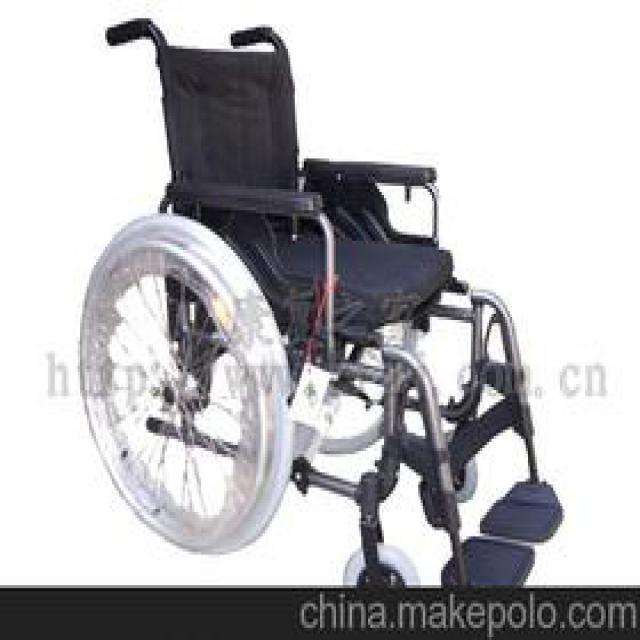wheelchairs: (83, 16, 564, 586)
